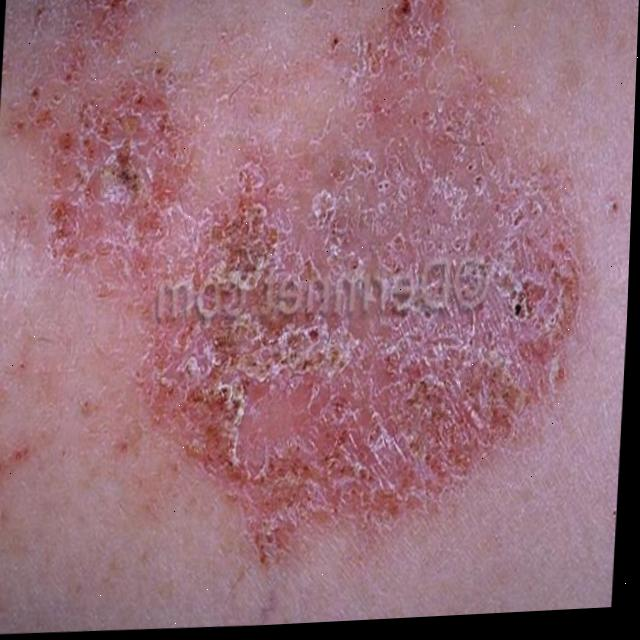Eczema: (76, 0, 583, 486)
